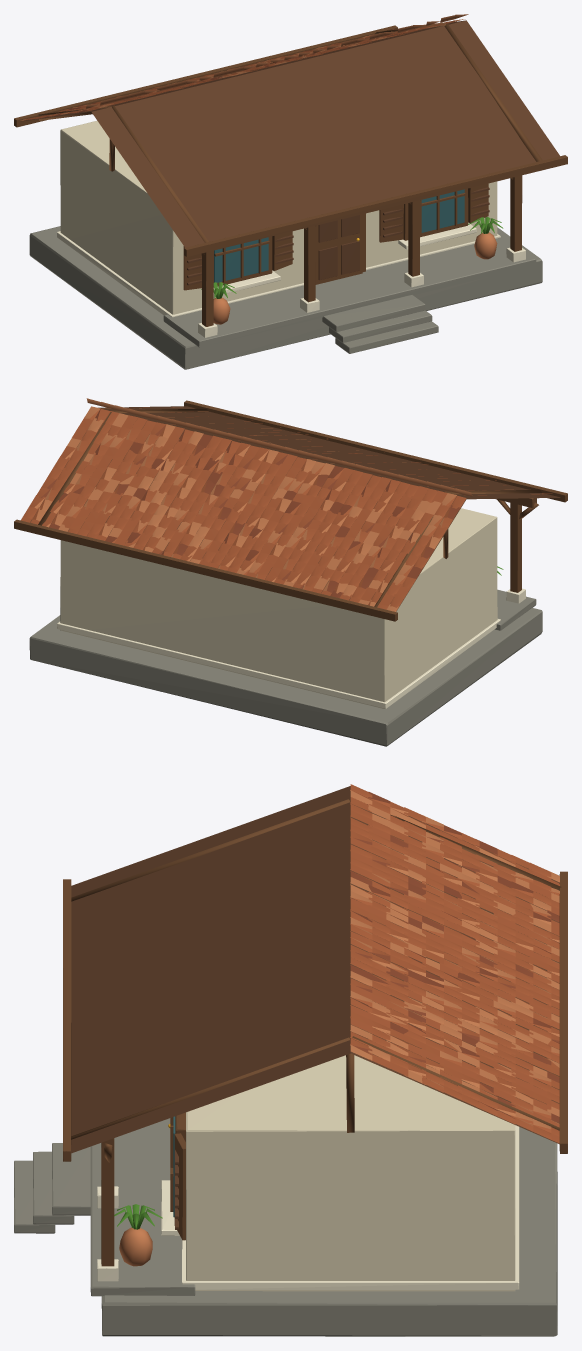
The model's file is KeralaHouse.glb.
3 views of the same model, one above another, from view 1: azimuth 30°, elevation 25°; view 2: azimuth 150°, elevation 25°; view 3: azimuth 270°, elevation 25° (orthographic). The views are drawn at different scales.
Visible parts, largest first — view 1: KeralaHouse_Roof_Underlay, KeralaHouse_House_Stone_Plinth, KeralaHouse_House_WarmLime_Plaster, KeralaHouse_House_Teak_Wood, KeralaHouse_House_Trim_Cream, KeralaHouse_Roof_Terracotta_Warm, KeralaHouse_House_Window_Glass, KeralaHouse_Roof_Terracotta, KeralaHouse_Coconut_Leaf_Emerald; view 2: KeralaHouse_House_WarmLime_Plaster, KeralaHouse_Roof_Terracotta, KeralaHouse_House_Stone_Plinth, KeralaHouse_Roof_Terracotta_Warm, KeralaHouse_House_Teak_Wood, KeralaHouse_Roof_Underlay, KeralaHouse_Roof_Terracotta_Dark, KeralaHouse_House_Trim_Cream; view 3: KeralaHouse_Roof_Underlay, KeralaHouse_House_WarmLime_Plaster, KeralaHouse_House_Stone_Plinth, KeralaHouse_Roof_Terracotta, KeralaHouse_Roof_Terracotta_Warm, KeralaHouse_House_Teak_Wood, KeralaHouse_House_Trim_Cream, KeralaHouse_Roof_Terracotta_Dark.
Part boxes in pixels (x1,y1,x2,y2): KeralaHouse_Roof_Underlay: (21, 20, 559, 285); KeralaHouse_House_Stone_Plinth: (29, 226, 542, 369); KeralaHouse_House_WarmLime_Plaster: (60, 121, 497, 314); KeralaHouse_House_Teak_Wood: (14, 23, 567, 326); KeralaHouse_House_Trim_Cream: (57, 223, 525, 337); KeralaHouse_Roof_Terracotta_Warm: (20, 14, 497, 324); KeralaHouse_House_Window_Glass: (214, 189, 464, 282); KeralaHouse_Roof_Terracotta: (24, 20, 456, 120); KeralaHouse_Coconut_Leaf_Emerald: (201, 217, 503, 298); KeralaHouse_House_WarmLime_Plaster: (60, 508, 497, 708); KeralaHouse_Roof_Terracotta: (20, 407, 552, 609); KeralaHouse_House_Stone_Plinth: (29, 589, 542, 746); KeralaHouse_Roof_Terracotta_Warm: (34, 398, 513, 611); KeralaHouse_House_Teak_Wood: (14, 400, 567, 621); KeralaHouse_Roof_Underlay: (30, 406, 560, 611); KeralaHouse_Roof_Terracotta_Dark: (41, 409, 459, 598); KeralaHouse_House_Trim_Cream: (57, 588, 525, 708); KeralaHouse_Roof_Underlay: (71, 786, 559, 1229); KeralaHouse_House_WarmLime_Plaster: (186, 1055, 515, 1291); KeralaHouse_House_Stone_Plinth: (14, 1118, 557, 1336); KeralaHouse_Roof_Terracotta: (350, 784, 559, 1143); KeralaHouse_Roof_Terracotta_Warm: (119, 790, 559, 1266); KeralaHouse_House_Teak_Wood: (63, 799, 567, 1266); KeralaHouse_House_Trim_Cream: (97, 1125, 519, 1289); KeralaHouse_Roof_Terracotta_Dark: (350, 792, 559, 1123).
Bounding box in the file's own units: 9.24 × 4.7 × 7.87.
